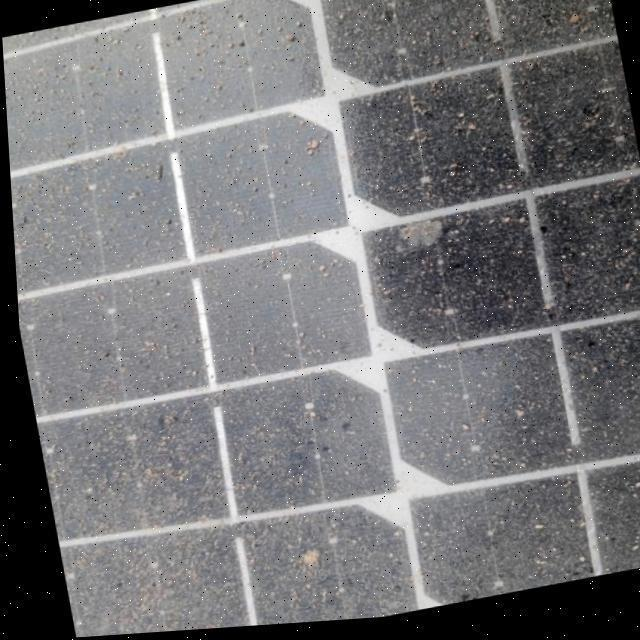Anomaly Solar Panel: (0, 0, 640, 640)
Surface Contaminant: (2, 0, 640, 638)
